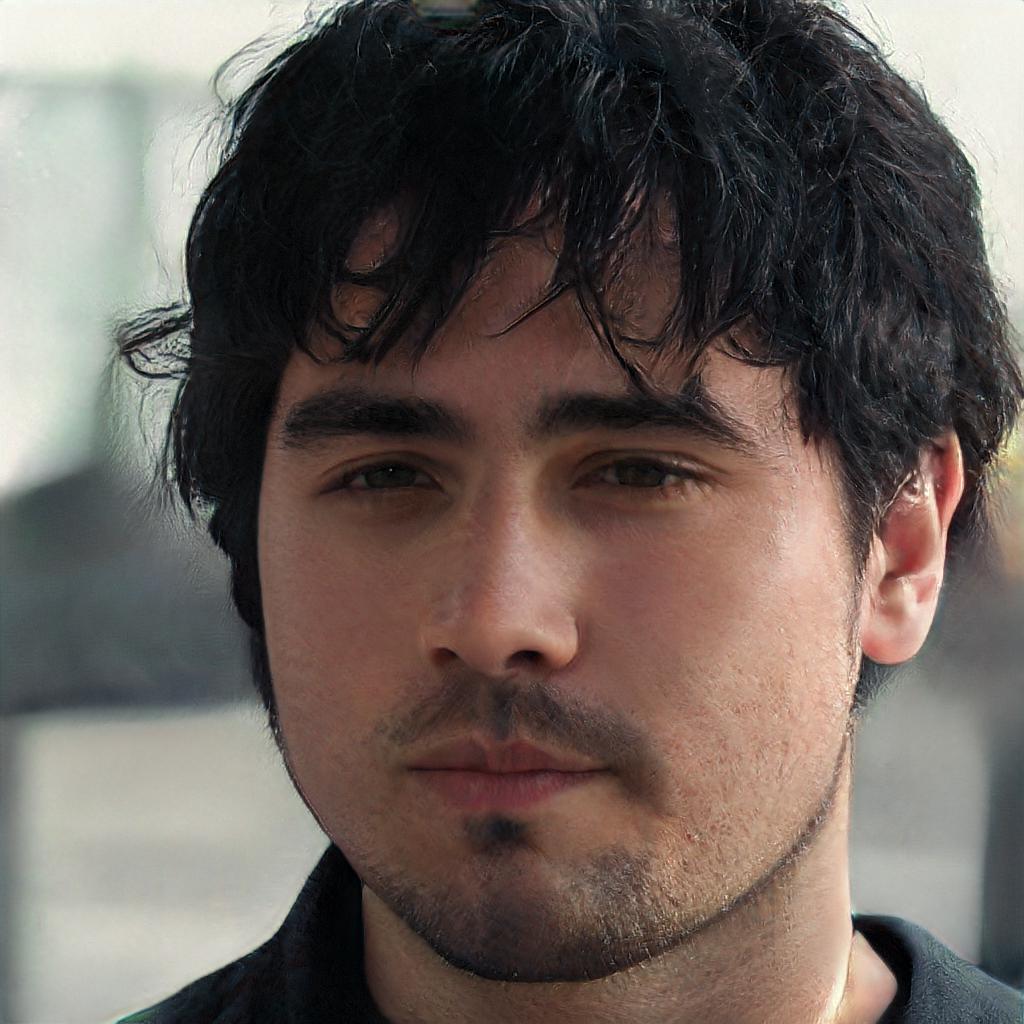face: (257, 196, 861, 981)
